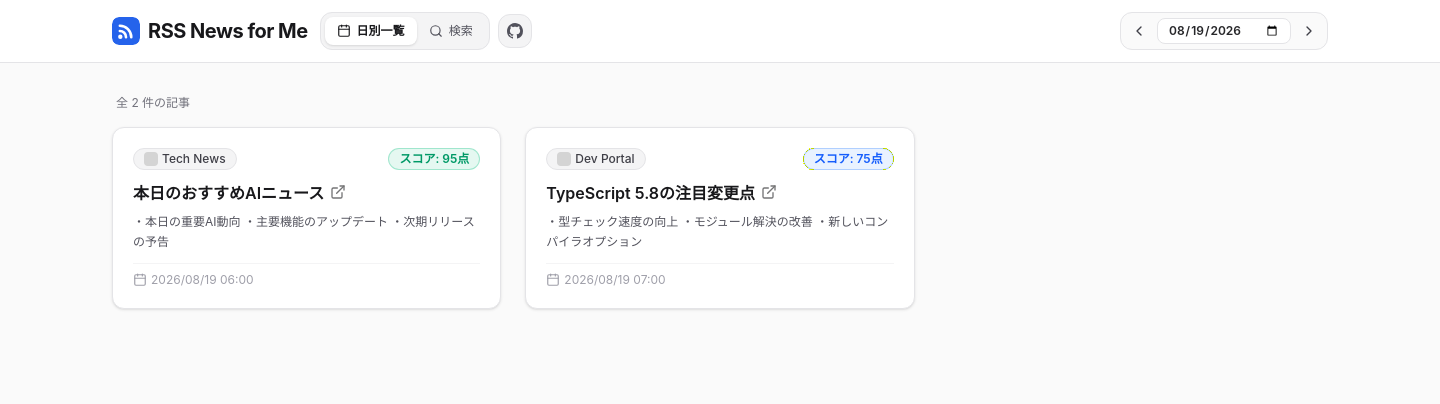
Test case: フロントエンド App コンポーネントのテスト › セマンティック検索画面 › 検索を実行して 0 件だった場合にのみ未ヒットの文言を表示すること
Expected: the text "本日のおすすめAIニュース" is shown, [133,182,324,204]
Click the button with aria-label "セマンティック検索" at (451, 31), box [417,17,485,45]
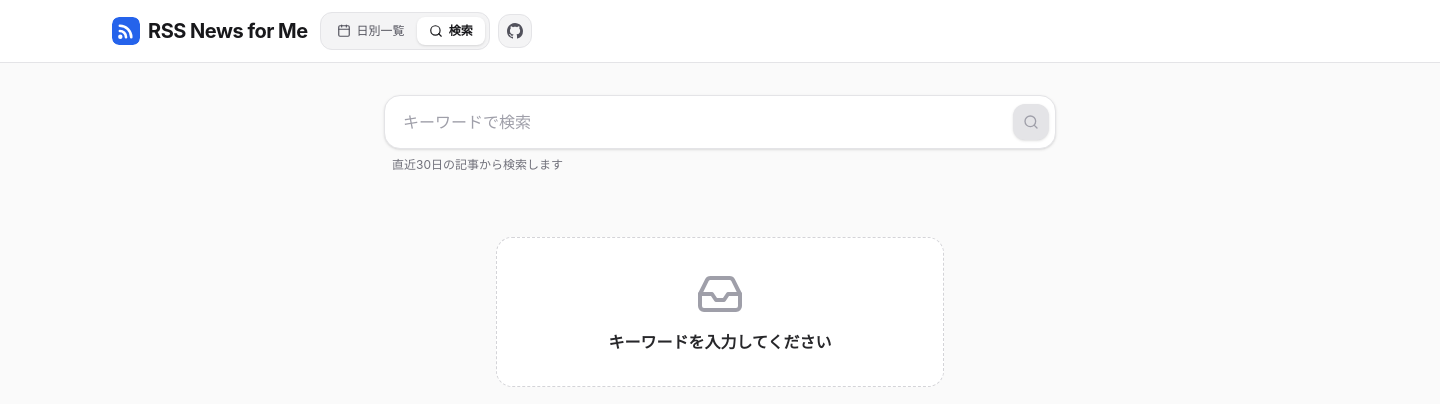
Type "存在しない話題" into the field with placeholder "キーワードで検索" at (700, 122), box [391,102,1009,142]
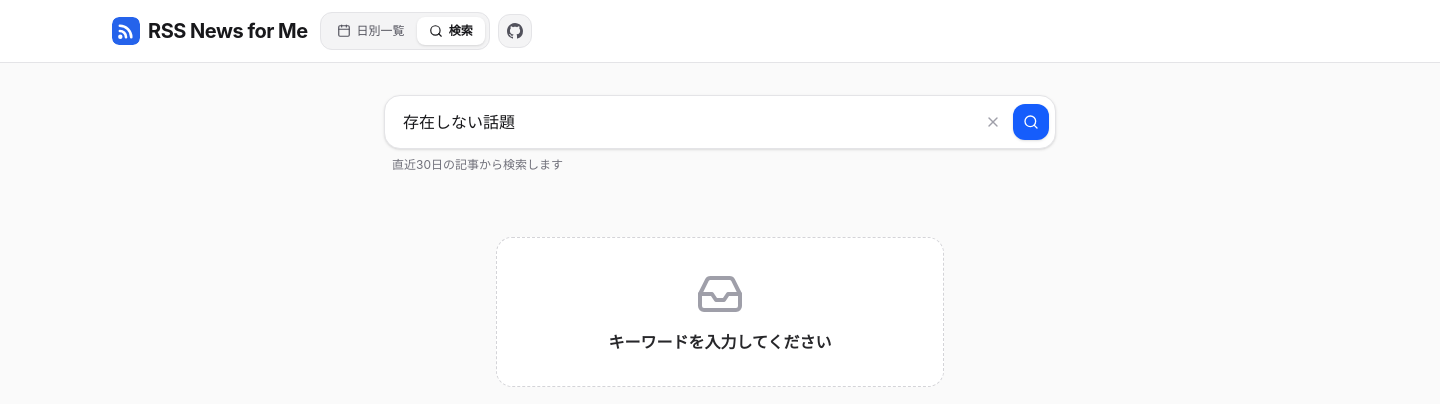
Click the button named "検索" at (1031, 122), box [1013,104,1049,140]
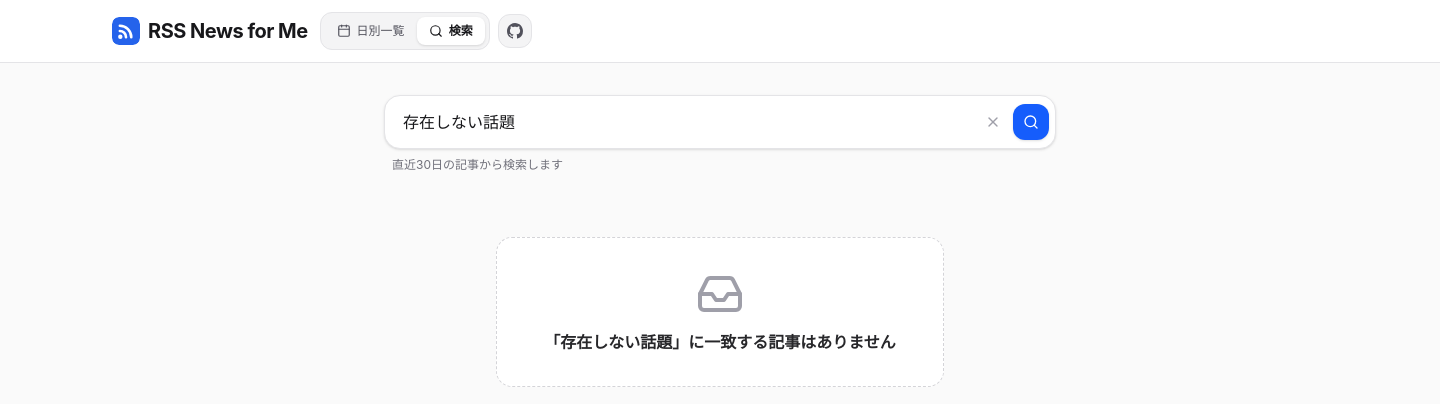
Expected: the heading "「存在しない話題」に一致する記事はありません" is shown, [529,330,911,354]
